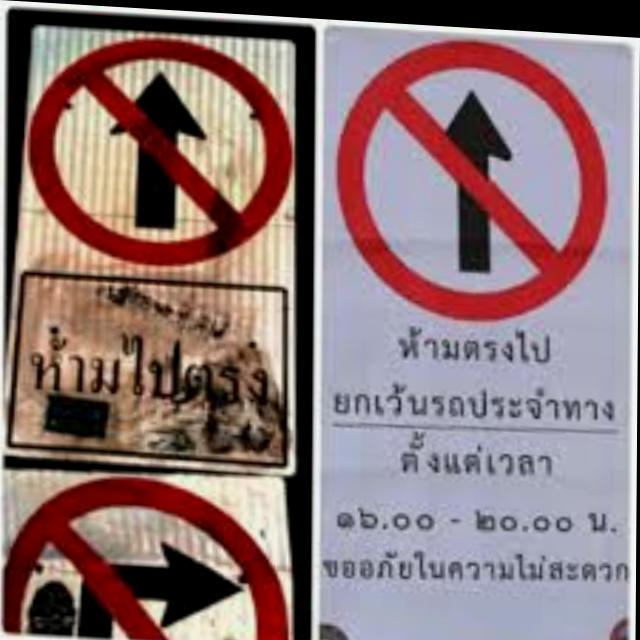not_go_straight: (333, 25, 603, 321), (35, 20, 287, 275)
